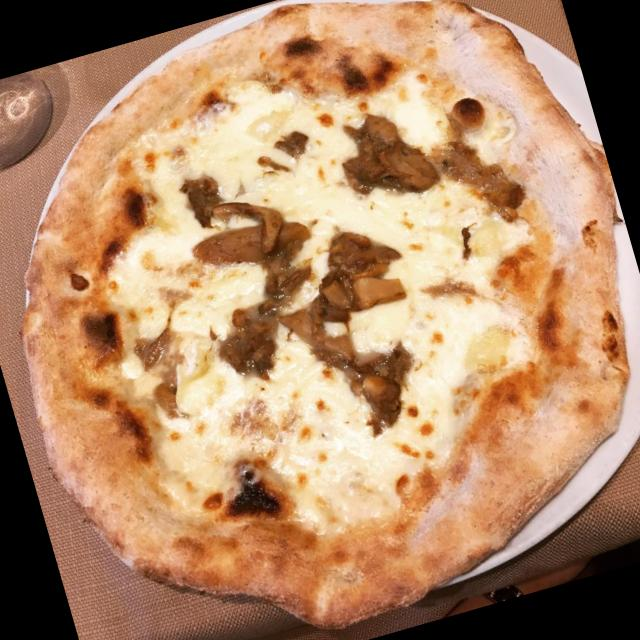mushrooms: (187, 206, 319, 314), (338, 102, 446, 215), (198, 182, 290, 266), (285, 295, 364, 380), (318, 256, 410, 322), (214, 302, 282, 389), (338, 360, 406, 432)
pizza: (21, 0, 632, 633)
